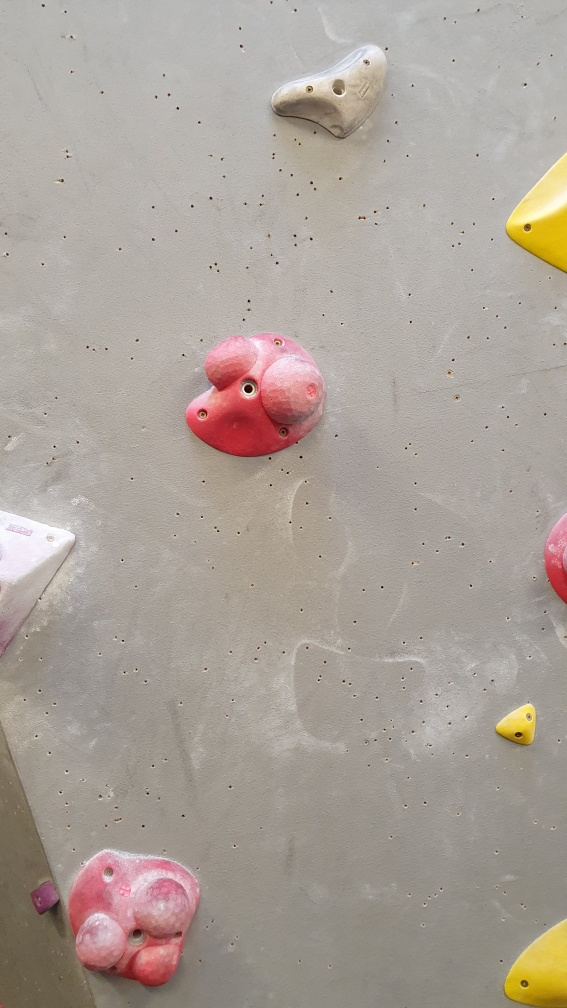Pinch: (31, 876, 63, 918)
Sloper: (64, 844, 202, 995), (182, 328, 327, 463)
